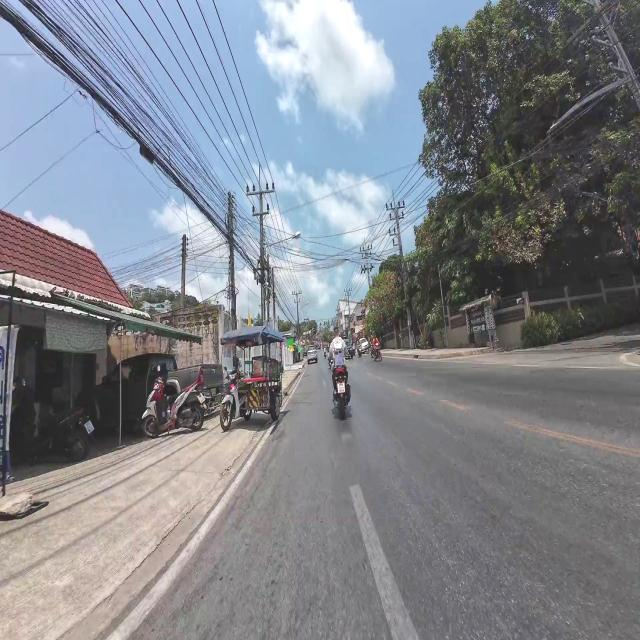car: (307, 347, 317, 363), (358, 338, 369, 352)
motorcycle: (142, 381, 205, 437), (334, 366, 350, 419)
